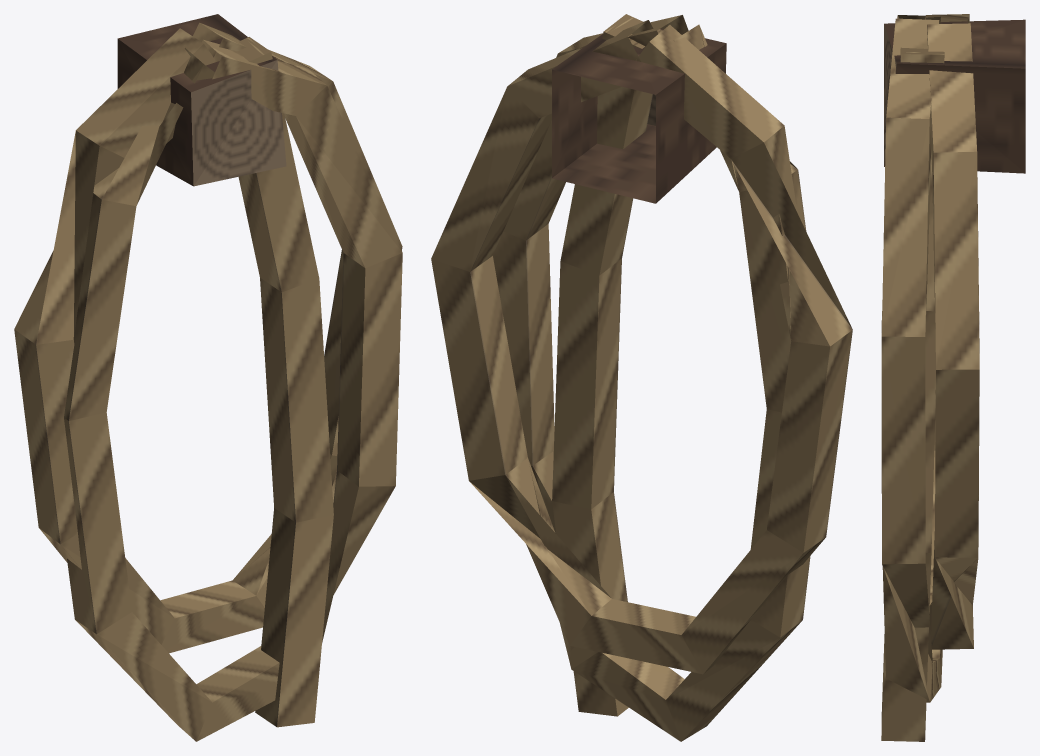
The model's file is SM_CV_RopeCoil.fbx.
The picture shows the model from 3 angles, left to right: view 1: azimuth 30°, elevation 25°; view 2: azimuth 150°, elevation 25°; view 3: azimuth 270°, elevation 25°; orthographic projection. The views are drawn at different scales.
Parts seen in each view (by area): view 1: CV_RopeCoil_Rope, CV_RopeCoil_Peg; view 2: CV_RopeCoil_Rope, CV_RopeCoil_Peg; view 3: CV_RopeCoil_Rope, CV_RopeCoil_Peg.
Boxes of the visible parts, x1=… form: CV_RopeCoil_Rope: x1=14, y1=22, x2=402, y2=741; CV_RopeCoil_Peg: x1=117, y1=14, x2=286, y2=186; CV_RopeCoil_Rope: x1=431, y1=14, x2=852, y2=741; CV_RopeCoil_Peg: x1=552, y1=28, x2=726, y2=203; CV_RopeCoil_Rope: x1=881, y1=14, x2=979, y2=741; CV_RopeCoil_Peg: x1=884, y1=19, x2=1025, y2=173.
Size of the model in its own units: 0.3367 by 0.587 by 0.112.
